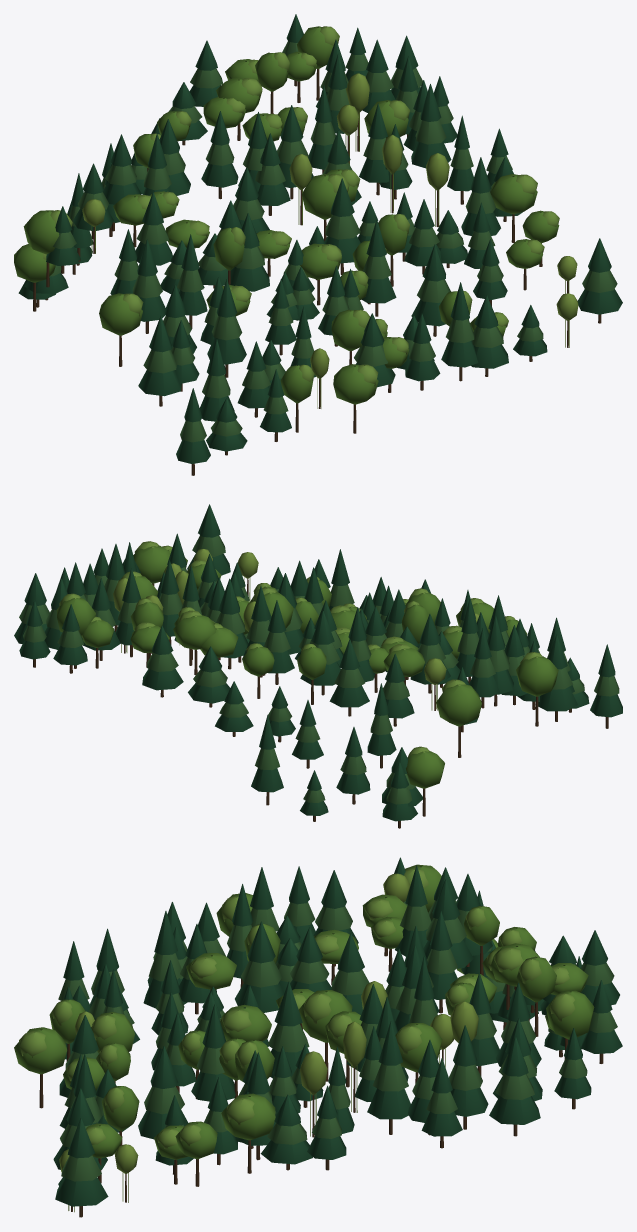
Rendered from forest_6_1.dae.
3 views of the same model, one above another, from view 1: azimuth 30°, elevation 25°; view 2: azimuth 150°, elevation 25°; view 3: azimuth 270°, elevation 25° (orthographic). The views are drawn at different scales.
Parts seen in each view (by area): view 1: forest_6_1; view 2: forest_6_1; view 3: forest_6_1.
Part boxes in pixels (x1=…): forest_6_1: x1=14, y1=14, x2=622, y2=475; forest_6_1: x1=14, y1=504, x2=622, y2=828; forest_6_1: x1=14, y1=857, x2=622, y2=1217.
Bounding box in the file's own units: 134 × 135 × 61.49.
